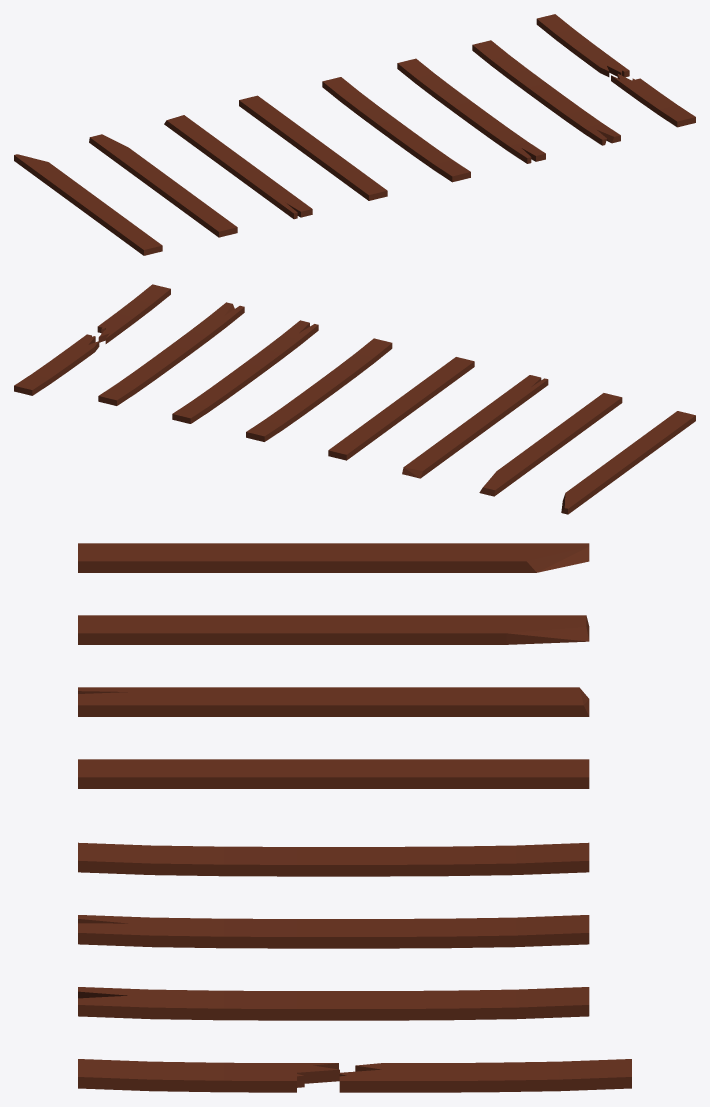
File: planks.fbx
3 renders of one model, top to bottom at view 1: azimuth 30°, elevation 25°; view 2: azimuth 150°, elevation 25°; view 3: azimuth 270°, elevation 25°, orthographic. The views are drawn at different scales.
Parts seen in each view (by area): view 1: Plank, Plank.001, Plank.005, Plank.002, Plank.003, Plank.004, Plank.006, Plank_snapped.006, Plank_snapped.007; view 2: Plank.001, Plank, Plank.003, Plank.002, Plank.005, Plank.004, Plank.006, Plank_snapped.006, Plank_snapped.007; view 3: Plank.001, Plank.002, Plank.005, Plank, Plank.003, Plank.004, Plank.006, Plank_snapped.006, Plank_snapped.007.
Boxes of the visible parts, x1=… form: Plank: x1=239, y1=95, x2=387, y2=200; Plank.001: x1=322, y1=77, x2=470, y2=182; Plank.005: x1=472, y1=40, x2=620, y2=145; Plank.002: x1=397, y1=58, x2=545, y2=163; Plank.003: x1=164, y1=115, x2=312, y2=219; Plank.004: x1=89, y1=134, x2=237, y2=237; Plank.006: x1=14, y1=154, x2=162, y2=255; Plank_snapped.006: x1=536, y1=14, x2=629, y2=77; Plank_snapped.007: x1=611, y1=74, x2=695, y2=127; Plank.001: x1=246, y1=338, x2=392, y2=441; Plank: x1=328, y1=357, x2=474, y2=460; Plank.003: x1=402, y1=375, x2=548, y2=478; Plank.002: x1=172, y1=320, x2=318, y2=423; Plank.005: x1=98, y1=302, x2=244, y2=405; Plank.004: x1=479, y1=393, x2=622, y2=496; Plank.006: x1=561, y1=411, x2=695, y2=514; Plank_snapped.006: x1=14, y1=334, x2=99, y2=395; Plank_snapped.007: x1=97, y1=284, x2=170, y2=343; Plank.001: x1=78, y1=842, x2=589, y2=876; Plank.002: x1=78, y1=915, x2=589, y2=948; Plank.005: x1=78, y1=987, x2=589, y2=1020; Plank: x1=78, y1=759, x2=589, y2=788; Plank.003: x1=78, y1=687, x2=589, y2=716; Plank.004: x1=78, y1=615, x2=589, y2=644; Plank.006: x1=78, y1=543, x2=589, y2=572; Plank_snapped.006: x1=339, y1=1059, x2=631, y2=1092; Plank_snapped.007: x1=78, y1=1059, x2=339, y2=1092.
Size of the model in its own units: 1473 by 24.61 by 650.
